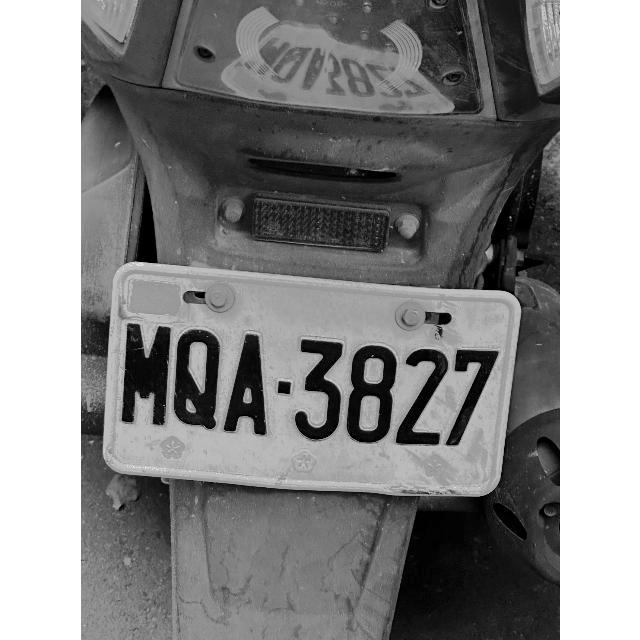-: (272, 371, 296, 407)
2: (397, 345, 447, 447)
3: (290, 333, 344, 443)
7: (449, 344, 499, 450)
8: (346, 338, 396, 444)
A: (222, 328, 268, 438)
M: (122, 320, 170, 430)
Q: (173, 326, 221, 434)
